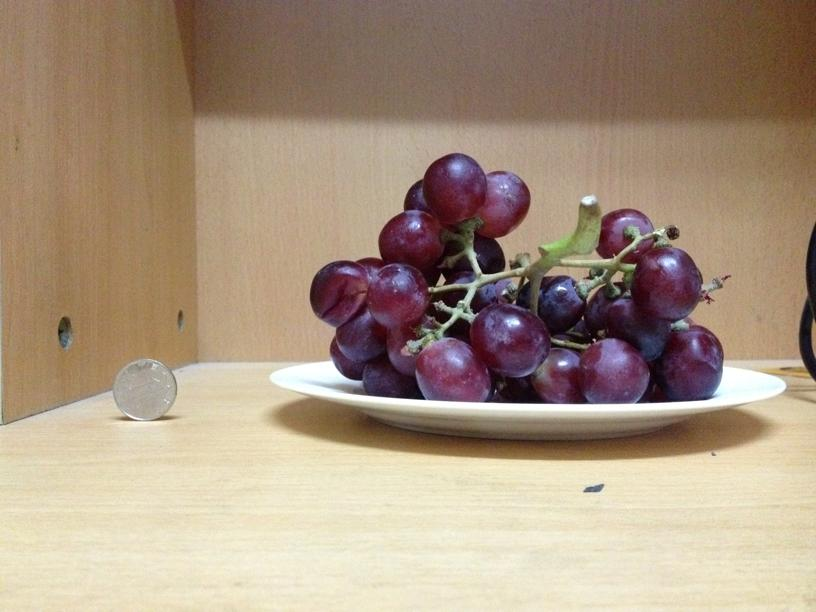coin: (113, 358, 176, 421)
grape: (302, 153, 727, 400)
